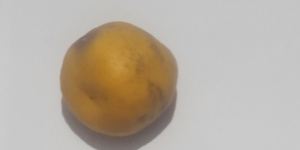BAD: (57, 20, 180, 137)
